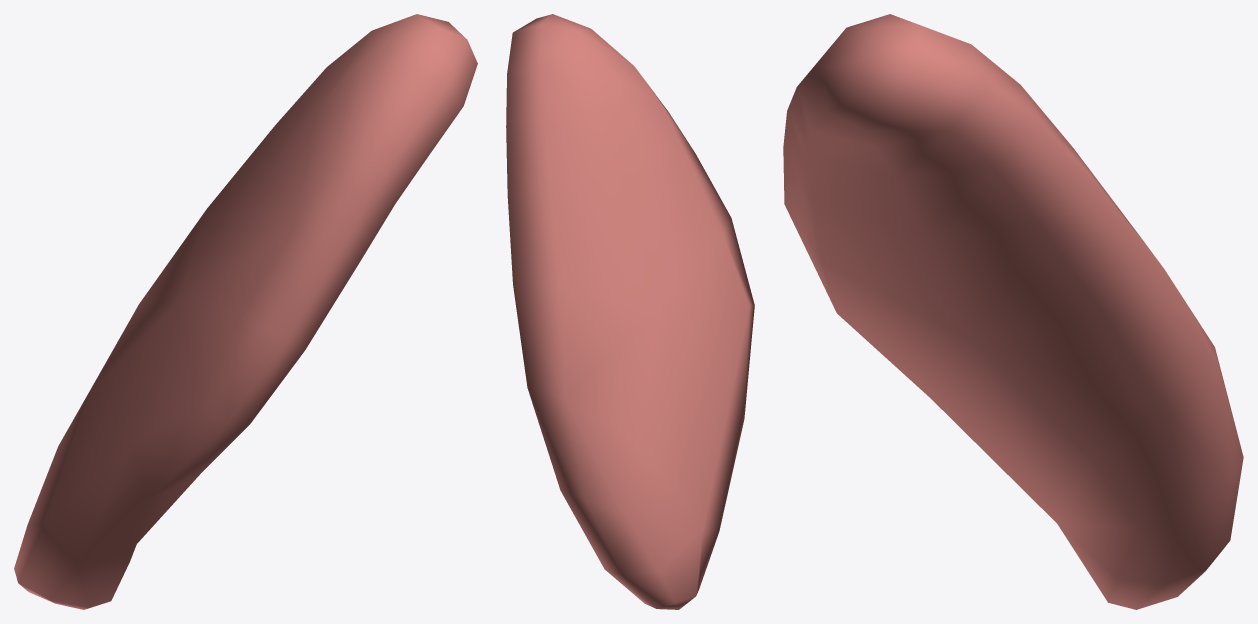
3 renders of one model, left to right at view 1: azimuth 30°, elevation 25°; view 2: azimuth 150°, elevation 25°; view 3: azimuth 270°, elevation 25°, orthographic. The views are drawn at different scales.
Visible parts, largest first — view 1: ZA_d2b1fe66d1ae9a92; view 2: ZA_d2b1fe66d1ae9a92; view 3: ZA_d2b1fe66d1ae9a92.
Part boxes in pixels (x1,y1,x2,y2): ZA_d2b1fe66d1ae9a92: [14, 14, 477, 609]; ZA_d2b1fe66d1ae9a92: [506, 14, 754, 609]; ZA_d2b1fe66d1ae9a92: [783, 14, 1243, 609].
Bounding box in the file's own units: 0.00164 × 0.00275 × 0.00159.
